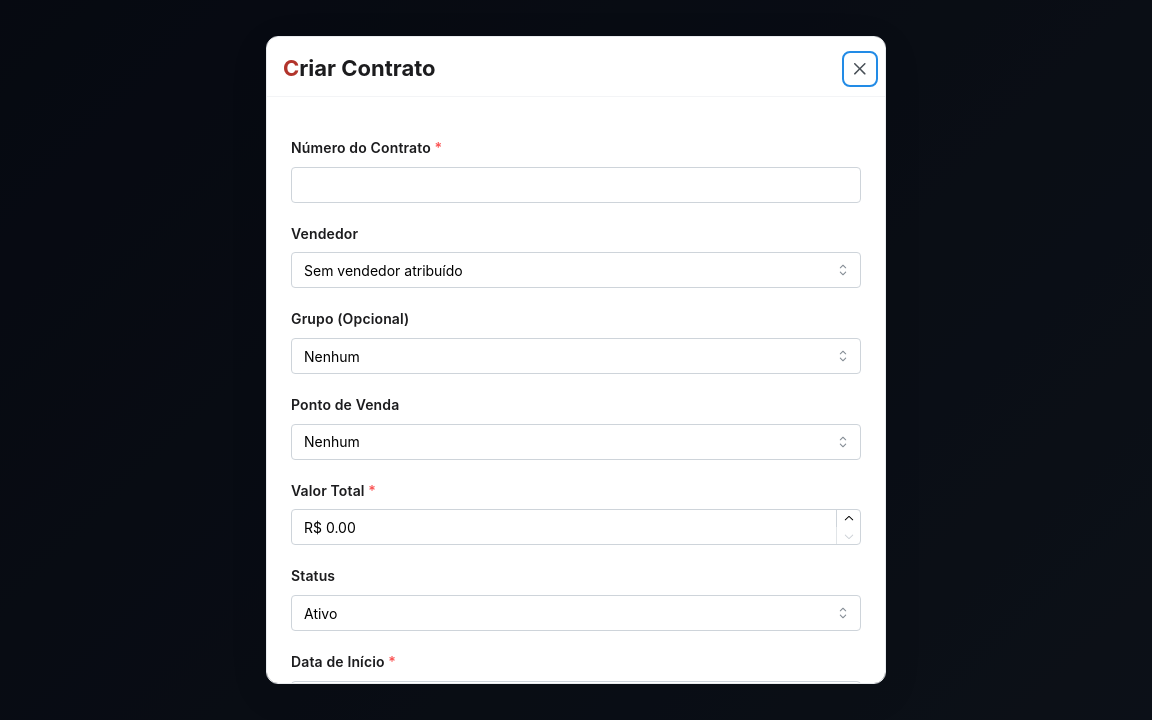
Test: ContractForm › Create Mode › should validate total amount minimum value
Type "C001" into the field named "Número do Contrato" at (576, 185), box [291,167,861,203]
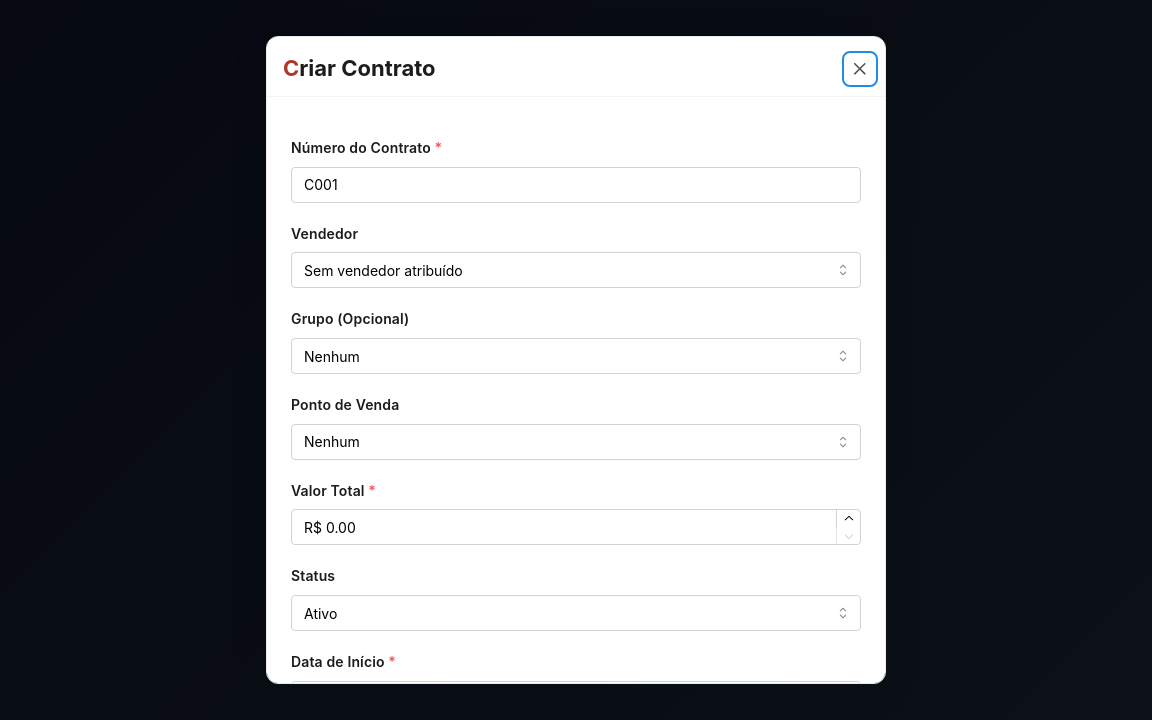
Replace the text in the field named "Valor Total" with "0" at (576, 527), box [291,509,861,545]
(page scrolled)
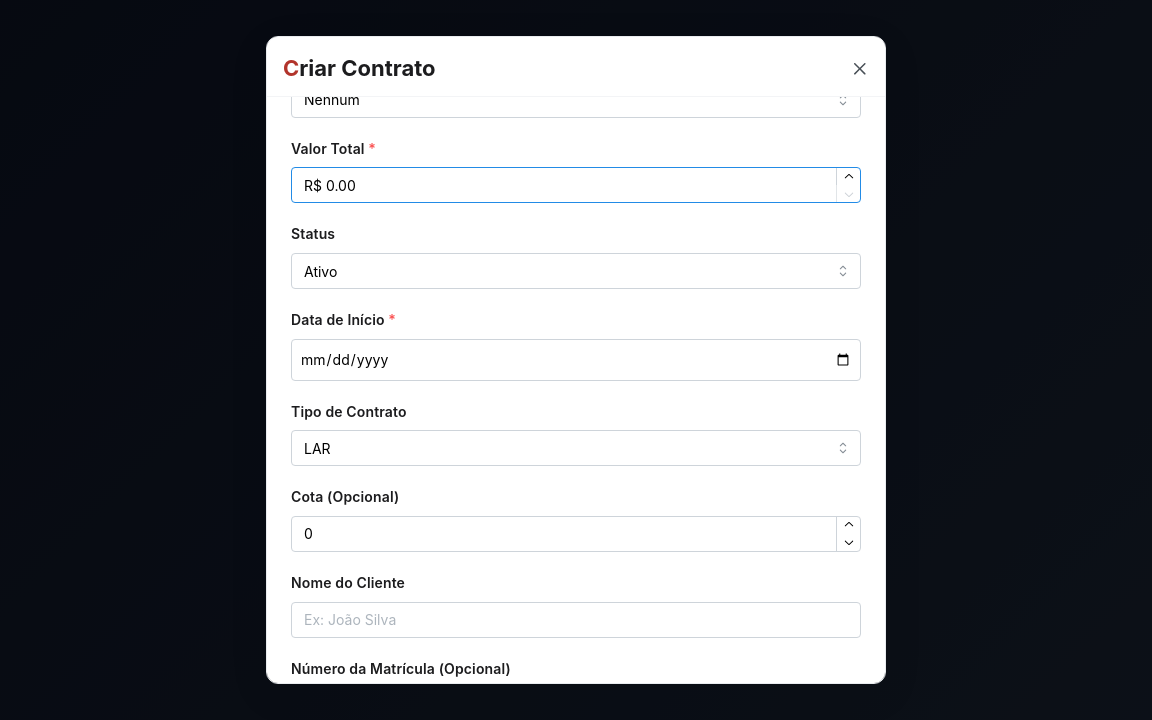
Type "2024-01-01" into the date field named "Data de Início" at (576, 360), box [291,339,861,380]
(page scrolled)
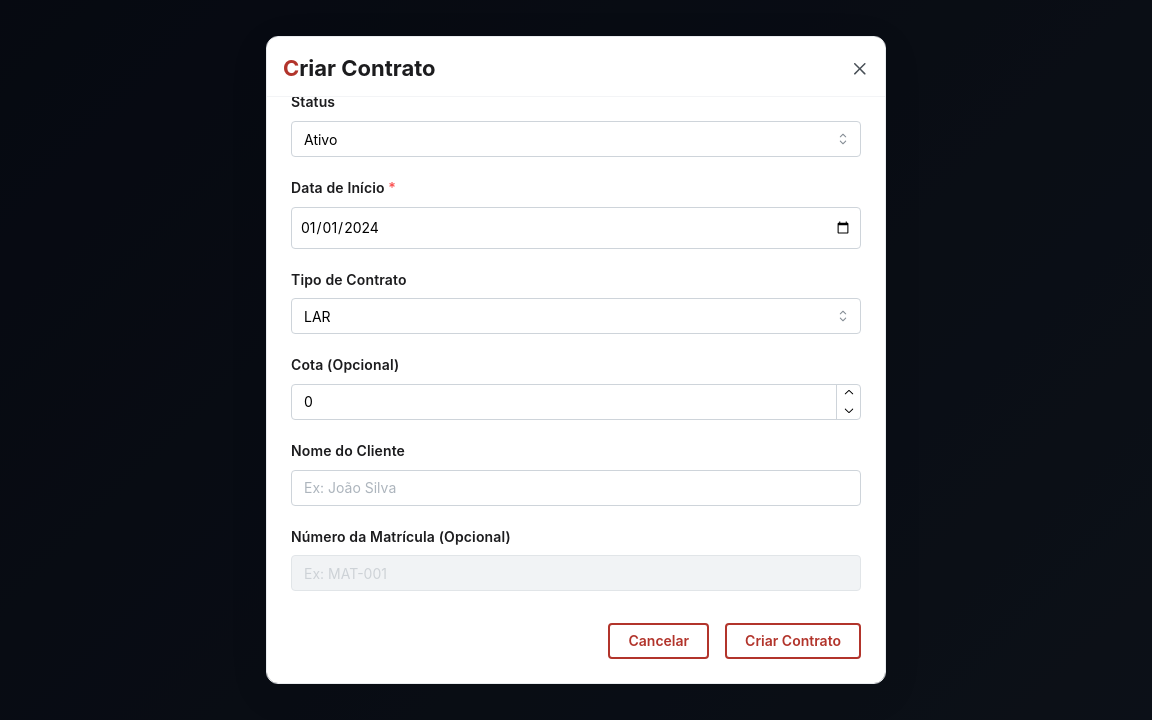
Click the button "Criar Contrato" at (793, 641), box [725,623,861,659]
(page scrolled)
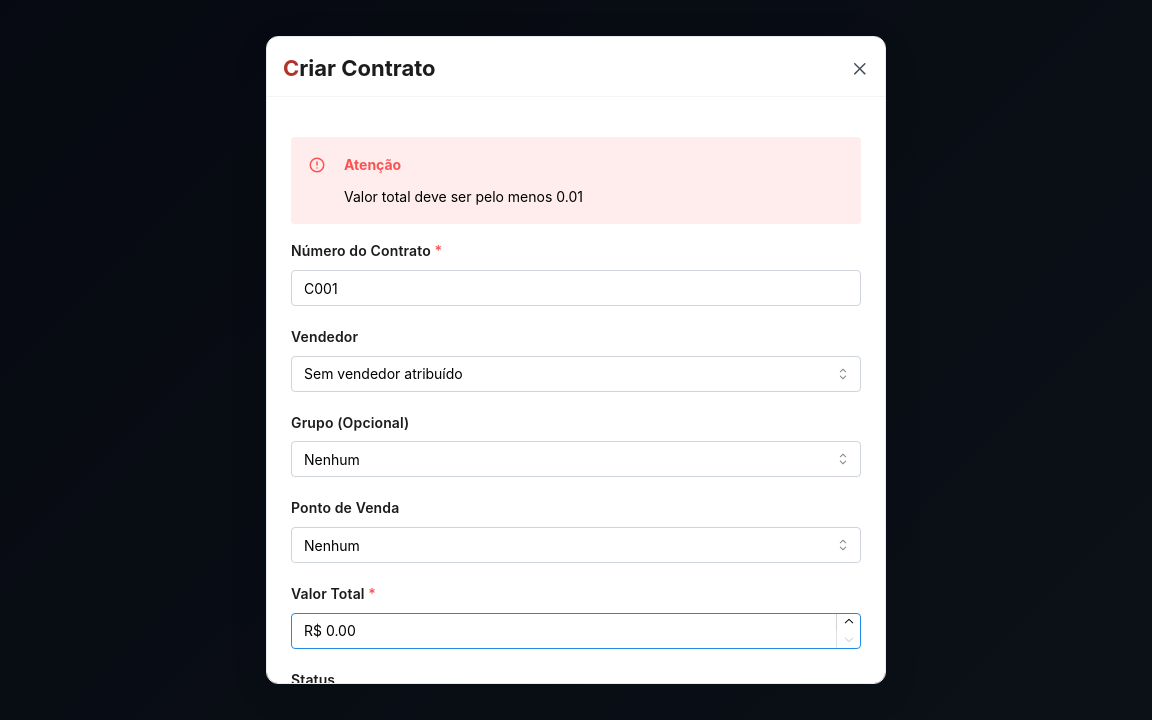
Expected: the text "Valor total deve ser pelo menos 0.01" is shown, [344,188,583,205]
